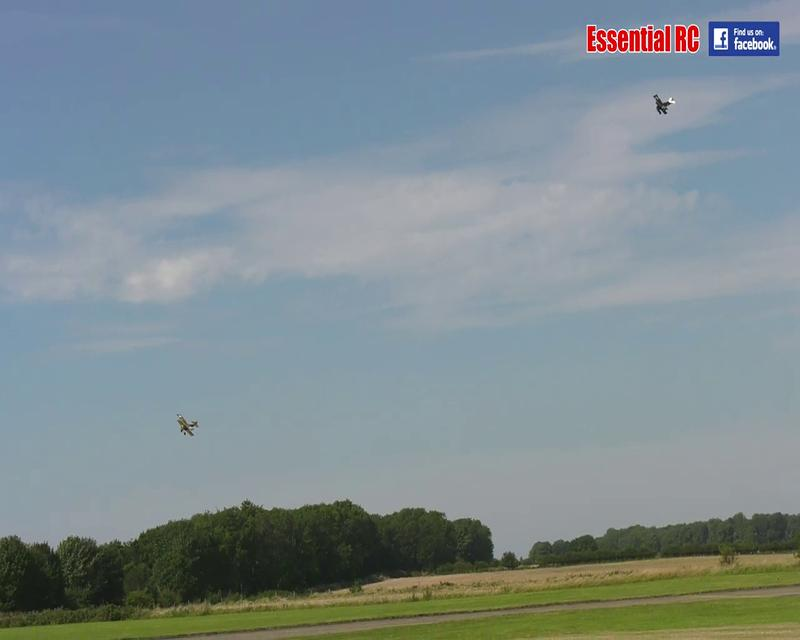UAV: (652, 92, 676, 116), (176, 414, 199, 437)
